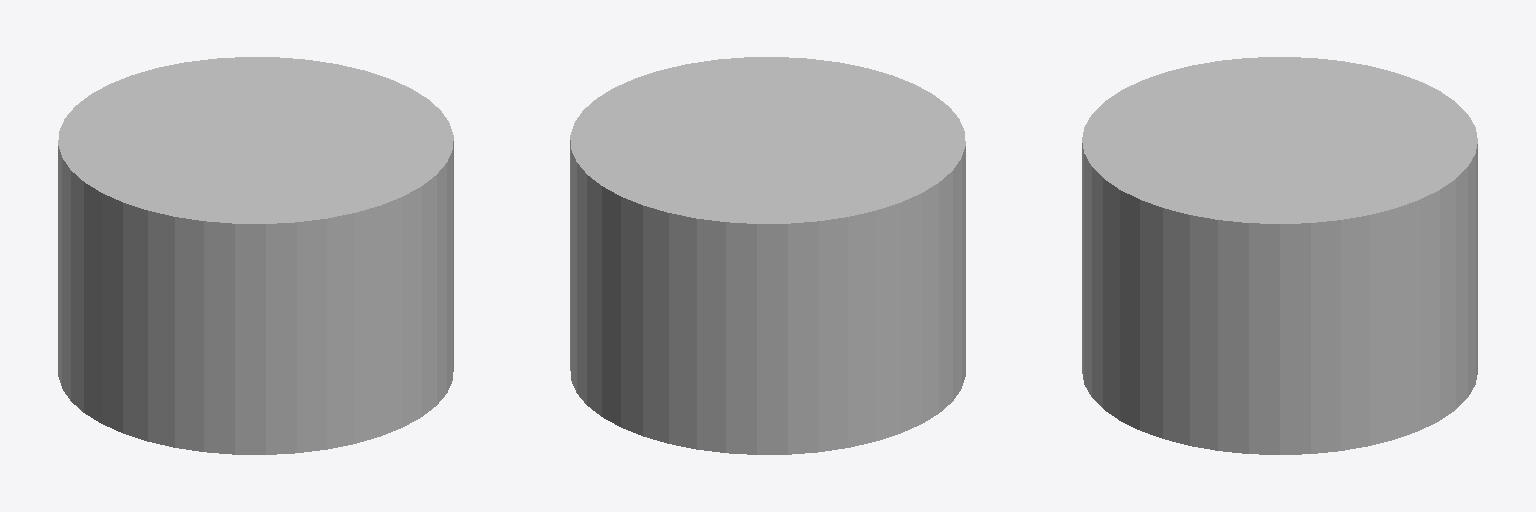
File: canned_food_15.obj
3 views of the same model, side by side, from view 1: azimuth 30°, elevation 25°; view 2: azimuth 150°, elevation 25°; view 3: azimuth 270°, elevation 25° (orthographic).
Parts seen in each view (by area): view 1: canned_food_18:pCylinder6; view 2: canned_food_18:pCylinder6; view 3: canned_food_18:pCylinder6.
Boxes of the visible parts, <box> form: canned_food_18:pCylinder6: <box>58,57,453,454</box>; canned_food_18:pCylinder6: <box>570,57,965,454</box>; canned_food_18:pCylinder6: <box>1082,57,1477,454</box>.
Bounding box in the file's own units: 0.9589 × 0.6171 × 0.9589.